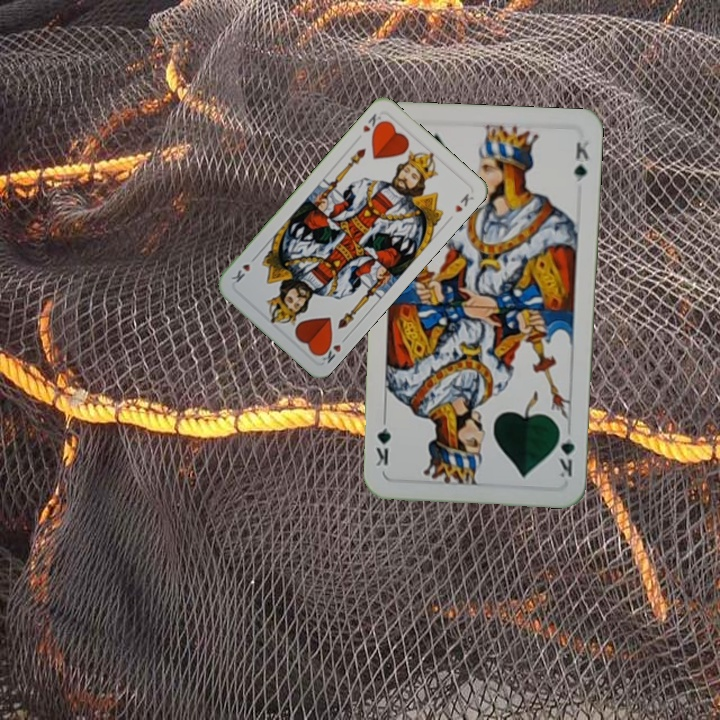GK: (555, 423, 578, 480)
HK: (315, 332, 350, 366), (359, 109, 386, 138)
